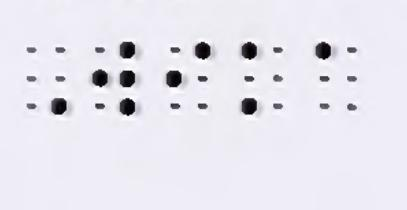W: (92, 41, 138, 117)
a: (316, 41, 357, 111)
capital: (25, 43, 68, 116)
i: (166, 41, 211, 111)
k: (240, 40, 285, 116)
